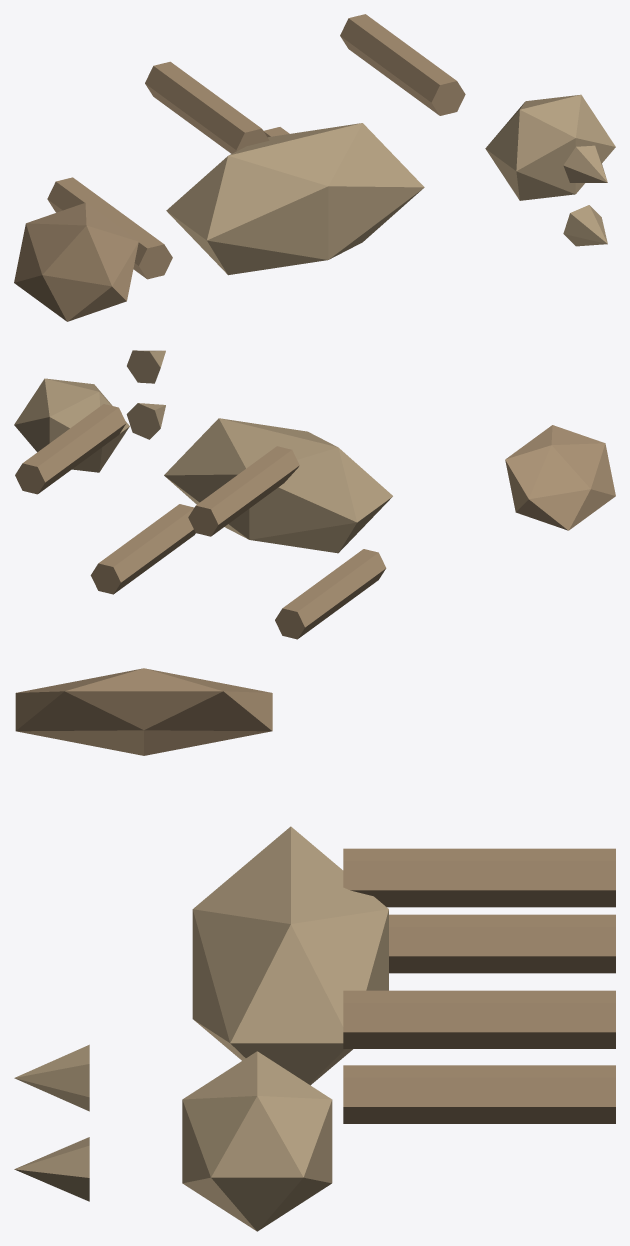
The model's file is squirrel.glb.
3 views of the same model, one above another, from view 1: azimuth 30°, elevation 25°; view 2: azimuth 150°, elevation 25°; view 3: azimuth 270°, elevation 25° (orthographic). The views are drawn at different scales.
Parts seen in each view (by area): view 1: world; view 2: world; view 3: world.
Boxes of the visible parts, x1,y1,x2,y2 form: world: (14,14,615,321); world: (14,350,615,639); world: (14,668,615,1231).
Bounding box in the file's own units: 2.45 × 0.5253 × 1.44.
